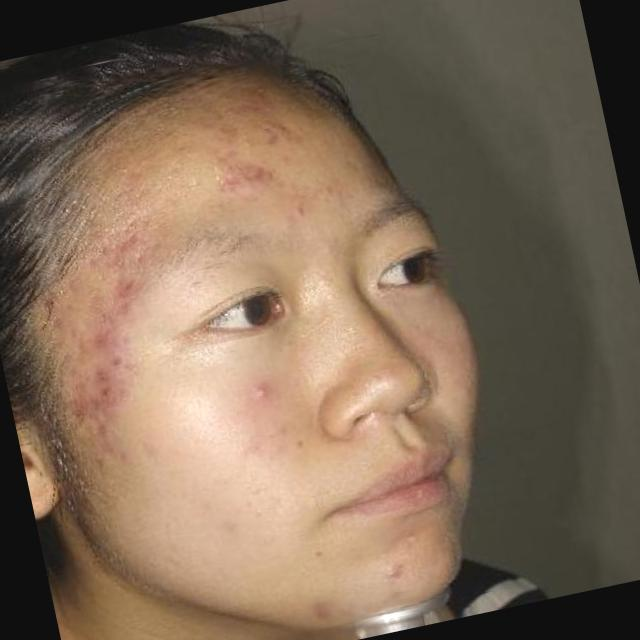blackhead: (94, 383, 119, 407), (105, 353, 128, 368)
nodules: (240, 374, 286, 412), (373, 555, 412, 585)
